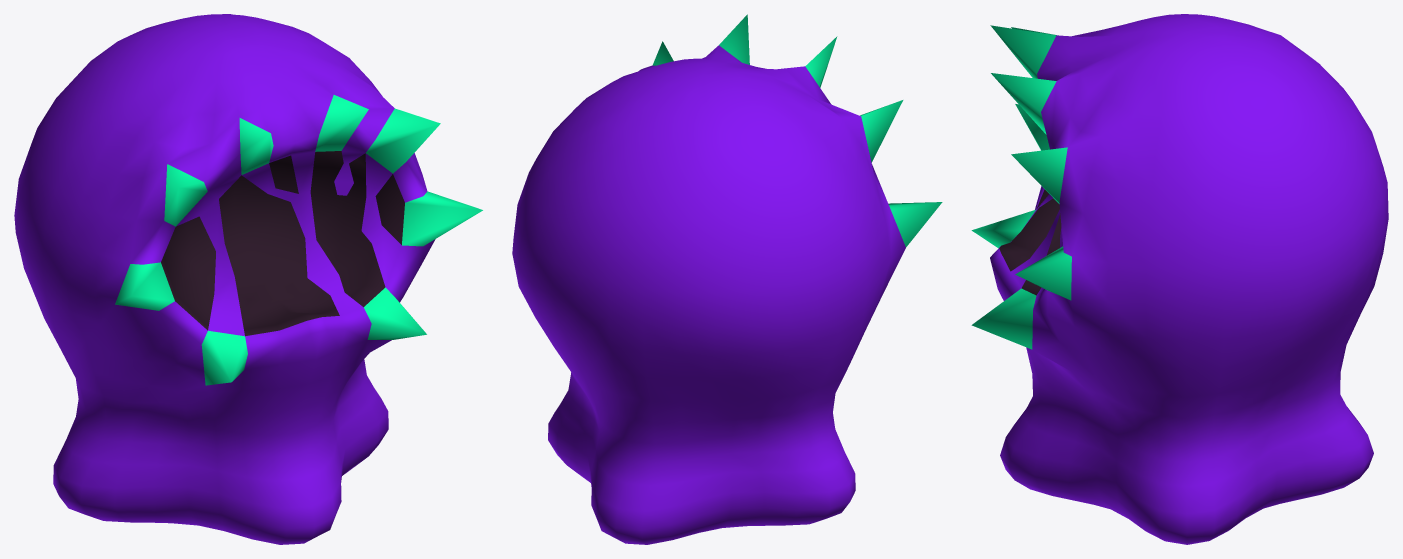
File: SlimeStationary.fbx
3 views of the same model, side by side, from view 1: azimuth 30°, elevation 25°; view 2: azimuth 150°, elevation 25°; view 3: azimuth 270°, elevation 25° (orthographic). The views are drawn at different scales.
Parts seen in each view (by area): view 1: Slime_Enemy_Mesh; view 2: Slime_Enemy_Mesh; view 3: Slime_Enemy_Mesh.
Part boxes in pixels (bbox=[...]): Slime_Enemy_Mesh: bbox=[14, 14, 482, 544]; Slime_Enemy_Mesh: bbox=[512, 14, 942, 544]; Slime_Enemy_Mesh: bbox=[971, 14, 1388, 544].
Bounding box in the file's own units: 83.38 × 102 × 84.26.
